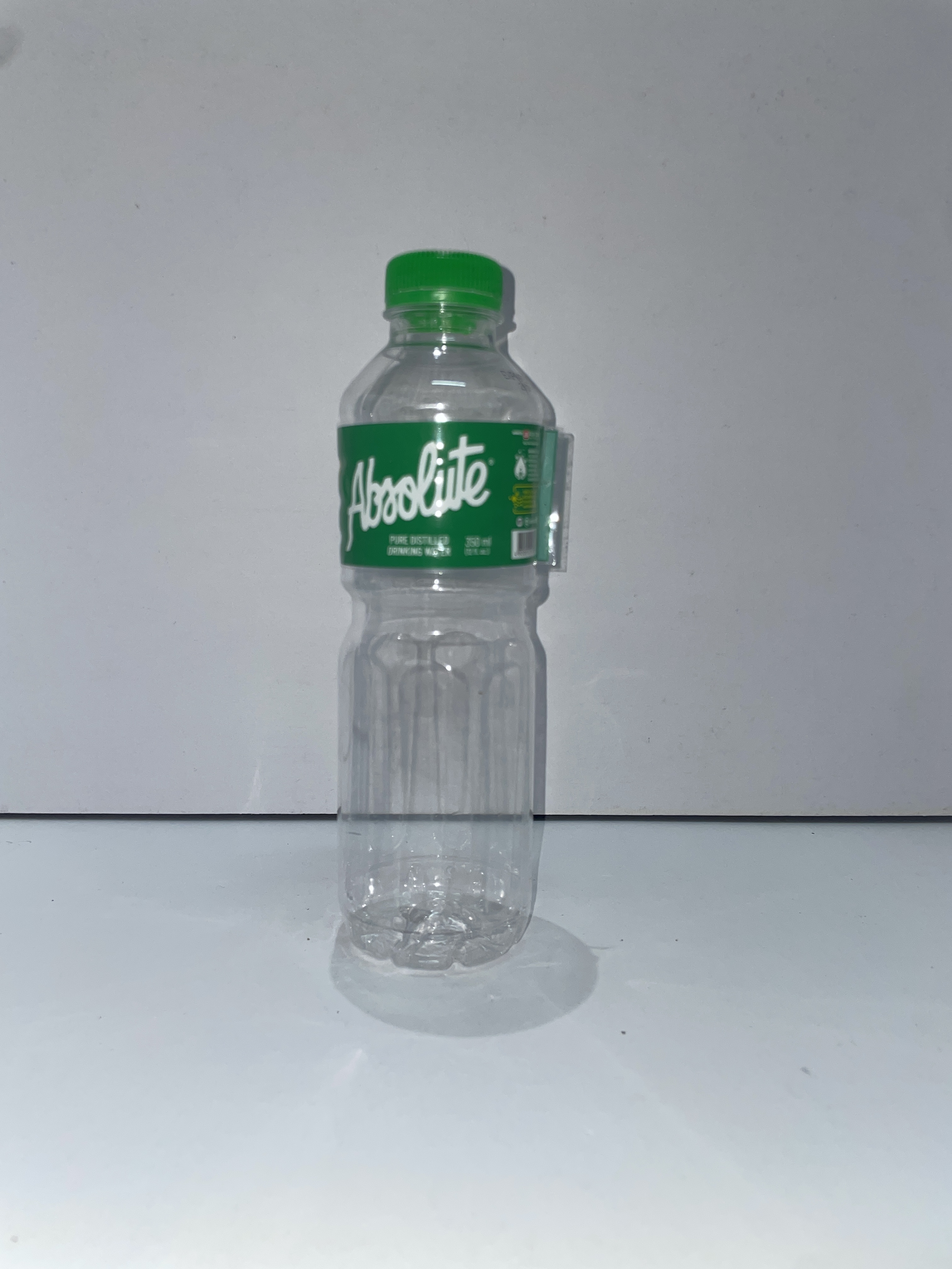Absolute 350ml: (337, 251, 557, 970)
